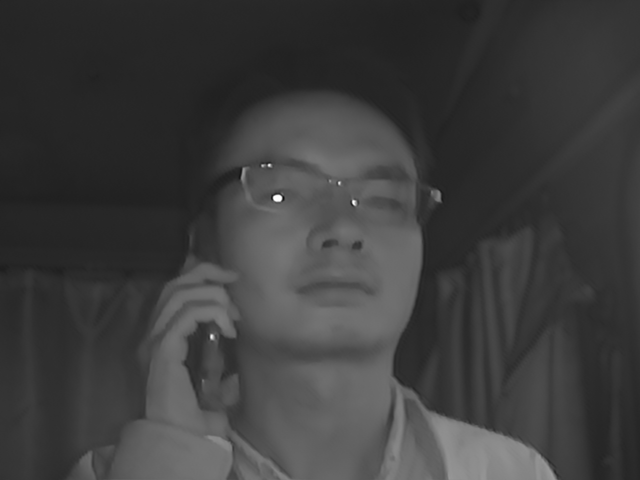hand: (137, 263, 243, 433)
